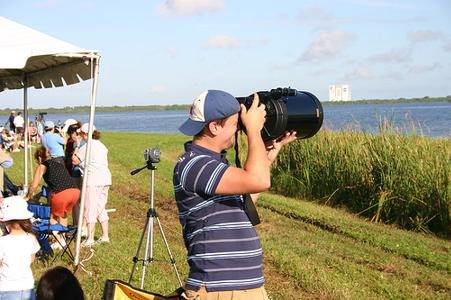person: (172, 88, 300, 300)
